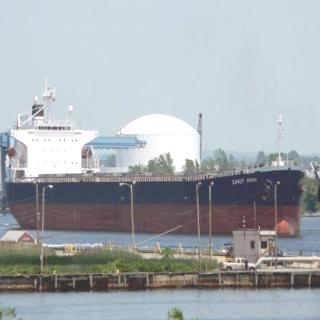Bulk Carrier: (0, 78, 300, 225)
